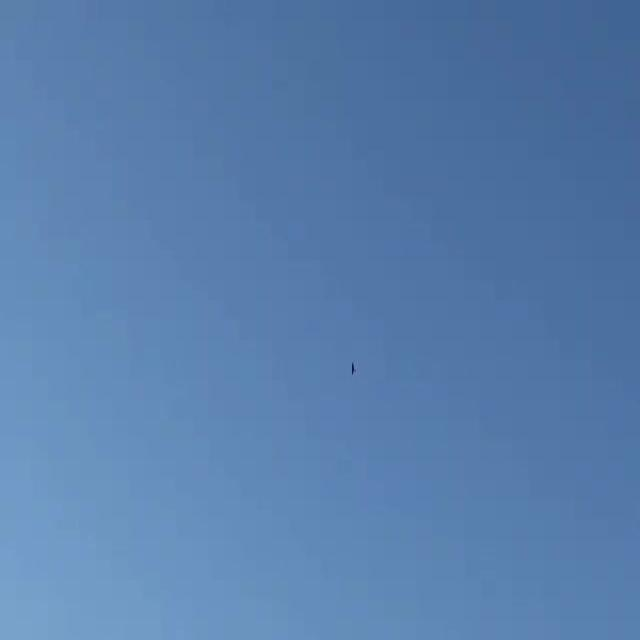bird: (346, 356, 362, 378)
